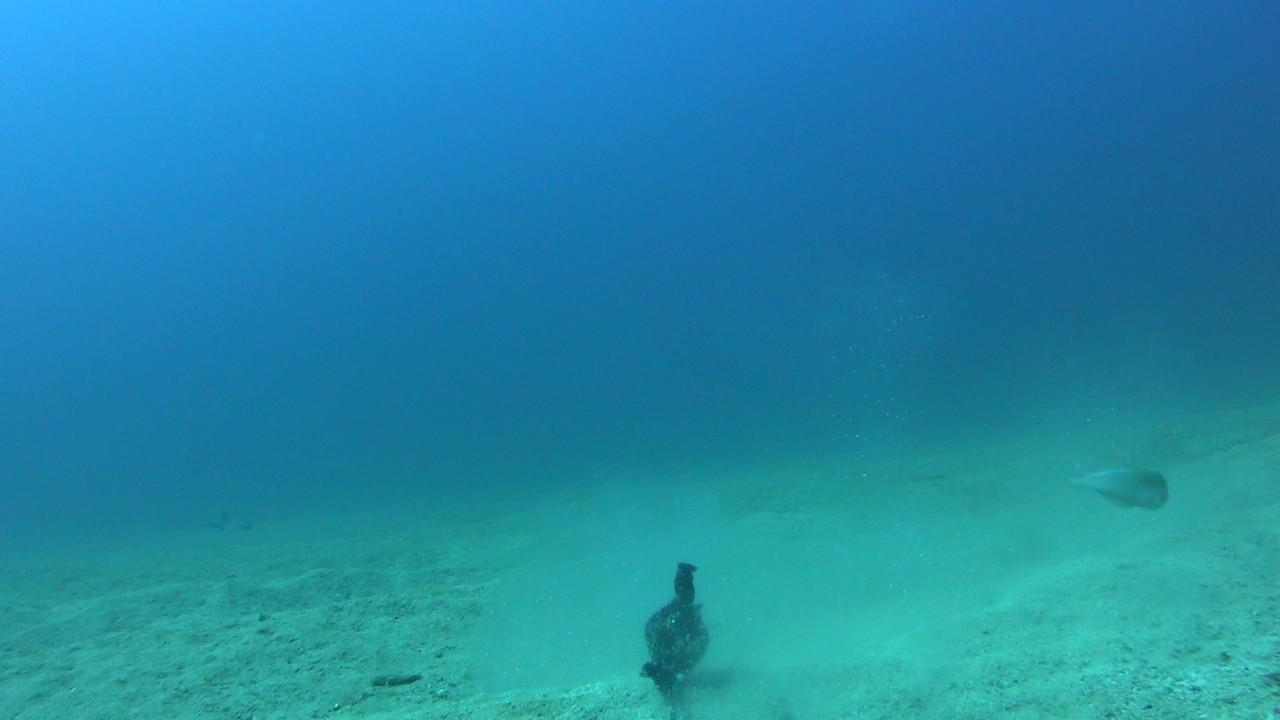myliobatis: (180, 496, 260, 550)
raor: (1069, 466, 1172, 516)
